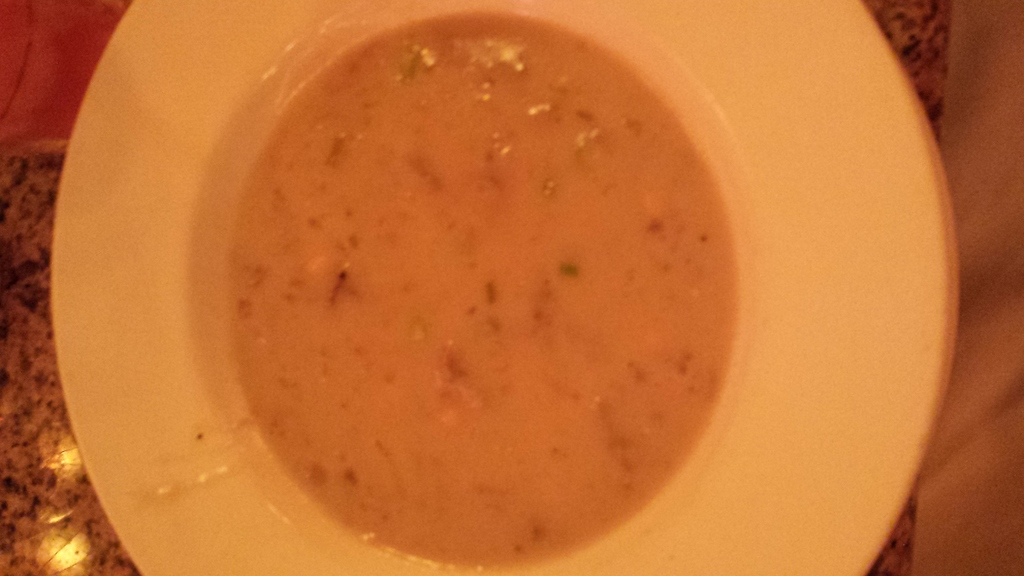plate: (51, 0, 958, 575)
